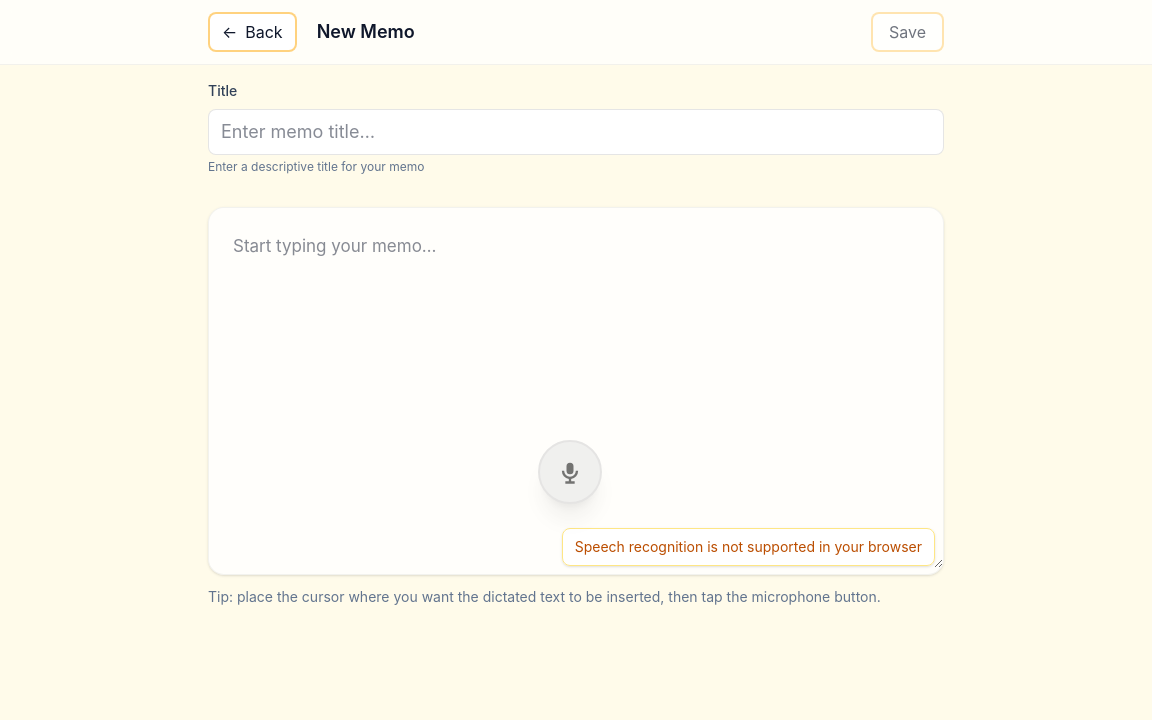
Test: MemoPage — Save button state (create mode) › Save becomes enabled after typing in the editor
This screenshot has width=1152, height=720.
Type "Hello" into the text box named "memo text editor". click: (576, 388)
box: left=209, top=208, right=943, bottom=568
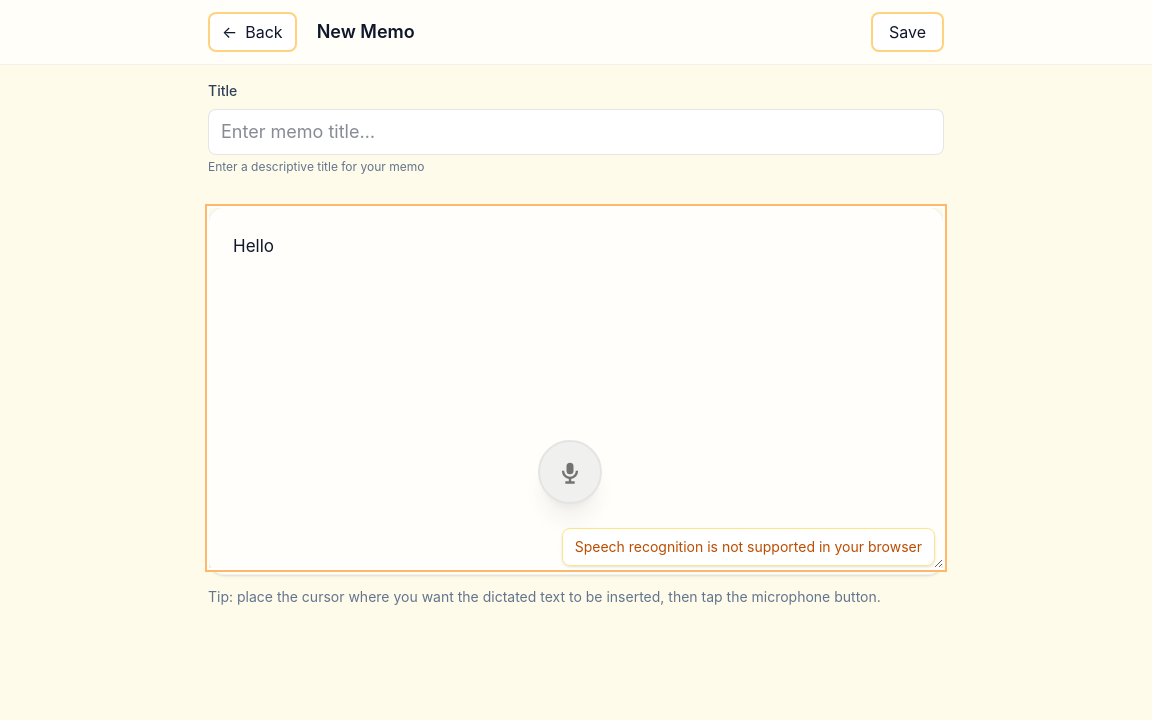
Now the button "Save" is enabled, box left=871, top=12, right=944, bottom=52
